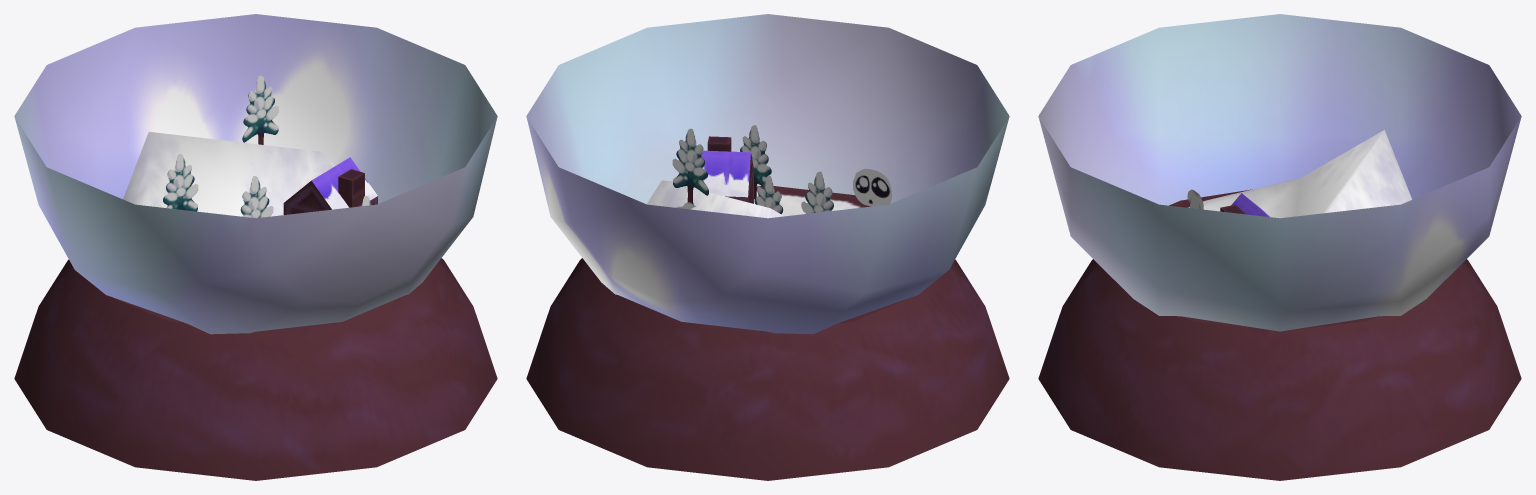
The model's file is globetest.fbx.
3 renders of one model, left to right at view 1: azimuth 30°, elevation 25°; view 2: azimuth 150°, elevation 25°; view 3: azimuth 270°, elevation 25°, orthographic.
Visible parts, largest first — view 1: Sphere, Circle, Plane.005, Plane.004, Plane.002; view 2: Sphere, Circle, Plane.005, Plane.007, Plane.003, Plane.004, Plane.002; view 3: Sphere, Circle.
Part boxes in pixels (left/top/right/bottom): Sphere: left=14, top=14, right=497, bottom=334; Circle: left=14, top=131, right=497, bottom=480; Plane.005: left=242, top=75, right=278, bottom=144; Plane.004: left=163, top=154, right=198, bottom=211; Plane.002: left=240, top=176, right=273, bottom=218; Sphere: left=526, top=14, right=1009, bottom=334; Circle: left=526, top=136, right=1009, bottom=480; Plane.005: left=672, top=128, right=708, bottom=209; Plane.007: left=852, top=168, right=891, bottom=206; Plane.003: left=740, top=125, right=771, bottom=199; Plane.004: left=801, top=171, right=833, bottom=213; Plane.002: left=754, top=176, right=783, bottom=214; Sphere: left=1038, top=14, right=1521, bottom=331; Circle: left=1038, top=130, right=1521, bottom=480.
Bounding box in the file's own units: 200 × 124 × 200.
